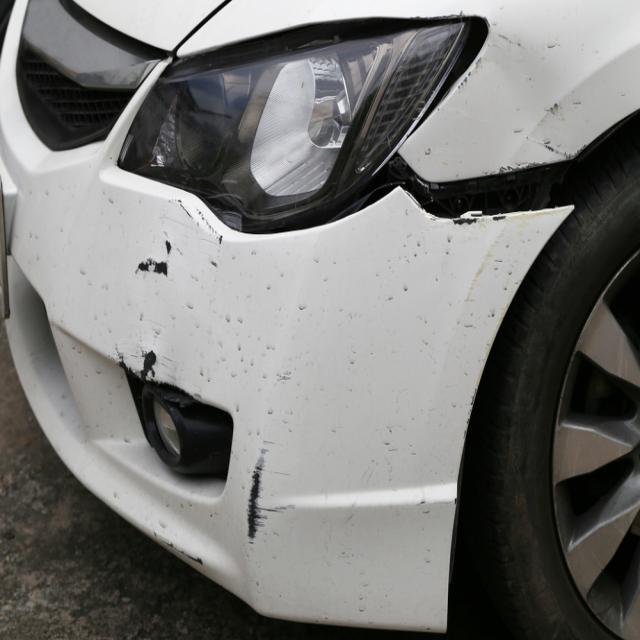scratch: (110, 197, 226, 389), (483, 29, 588, 176), (453, 212, 550, 313), (245, 433, 297, 551), (153, 530, 204, 567)
